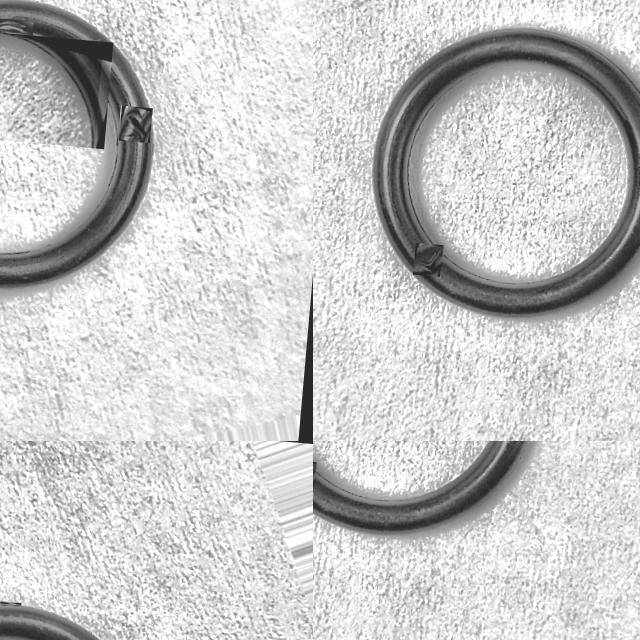侧边压痕: (0, 601, 13, 604)
切割缺陷: (122, 107, 151, 142), (414, 249, 442, 275), (0, 20, 31, 35)
裂纹: (0, 32, 94, 148)
